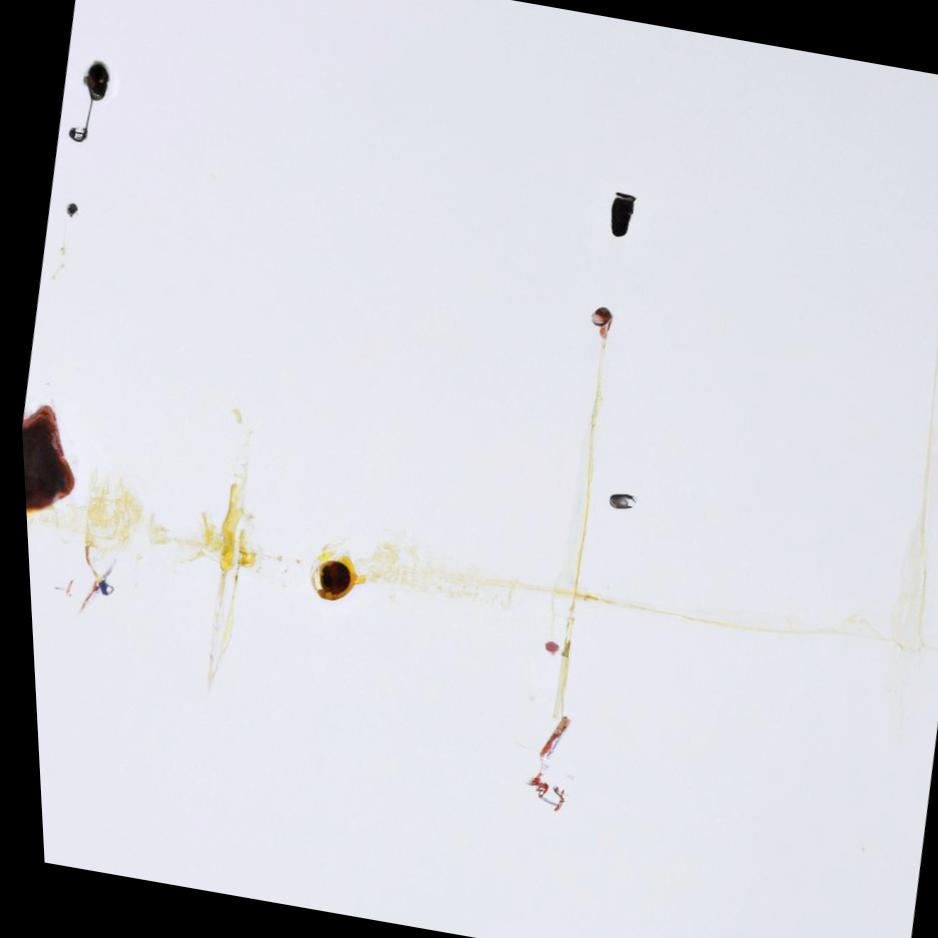Fire: (17, 406, 70, 516)
